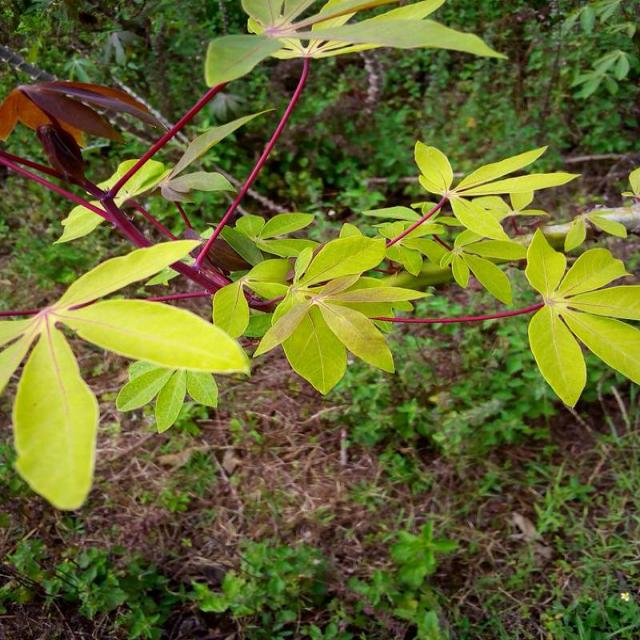cassava leaf: (525, 225, 640, 409), (12, 320, 100, 511), (58, 296, 252, 378)
